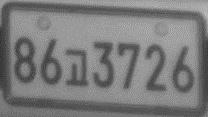2: (144, 44, 169, 93)
3: (93, 40, 114, 88)
6: (40, 39, 63, 85), (174, 45, 196, 93)
7: (117, 42, 141, 89)
8: (15, 37, 37, 83)
고: (65, 48, 90, 87)
